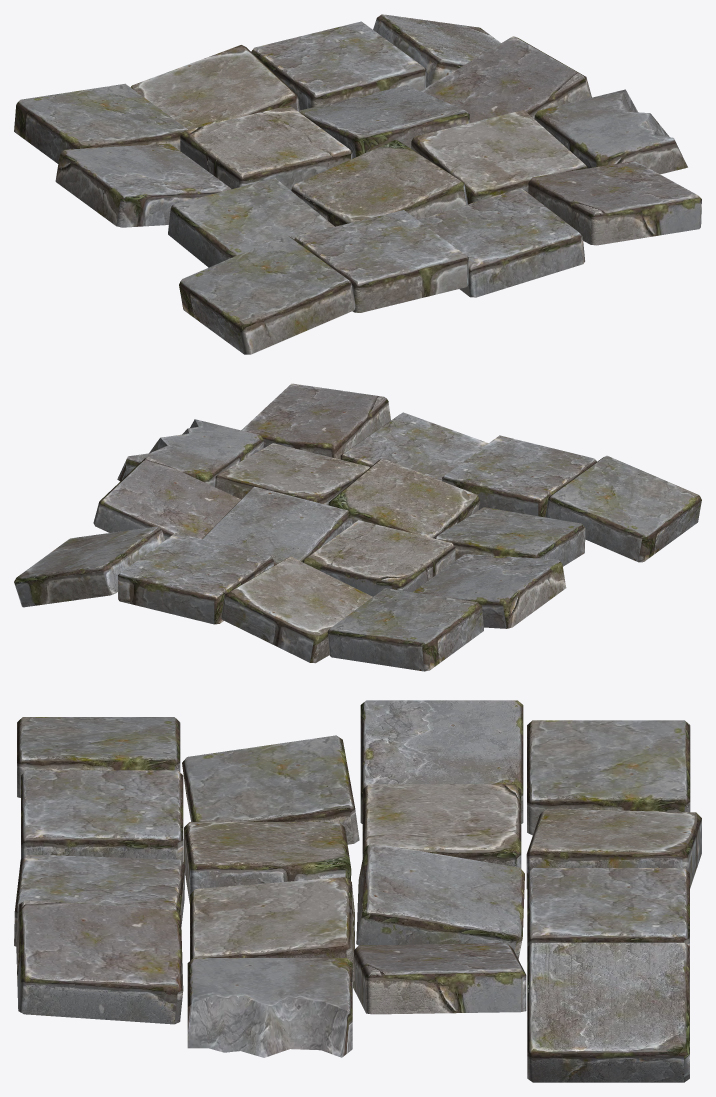
The picture shows the model from 3 angles, top to bottom: view 1: azimuth 30°, elevation 25°; view 2: azimuth 150°, elevation 25°; view 3: azimuth 270°, elevation 25°; orthographic projection. The views are drawn at different scales.
Visible parts, largest first — view 1: SM_Greathall_Floor_4x4_Broken_02_LOD0; view 2: SM_Greathall_Floor_4x4_Broken_02_LOD0; view 3: SM_Greathall_Floor_4x4_Broken_02_LOD0.
Boxes of the visible parts, box(x1,y1,x2,y2) form: SM_Greathall_Floor_4x4_Broken_02_LOD0: box(14, 14, 701, 354); SM_Greathall_Floor_4x4_Broken_02_LOD0: box(14, 383, 701, 671); SM_Greathall_Floor_4x4_Broken_02_LOD0: box(14, 700, 701, 1082).
Bounding box in the file's own units: 4.48 × 0.6512 × 4.05.
Materials: 1 (1 with a texture image).
